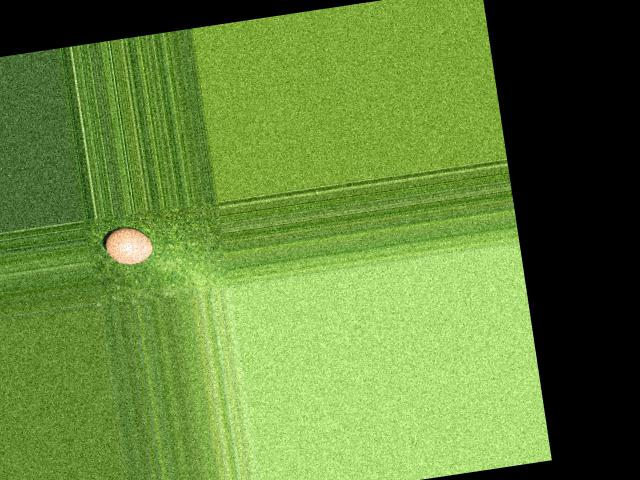egg: (103, 223, 155, 266)
